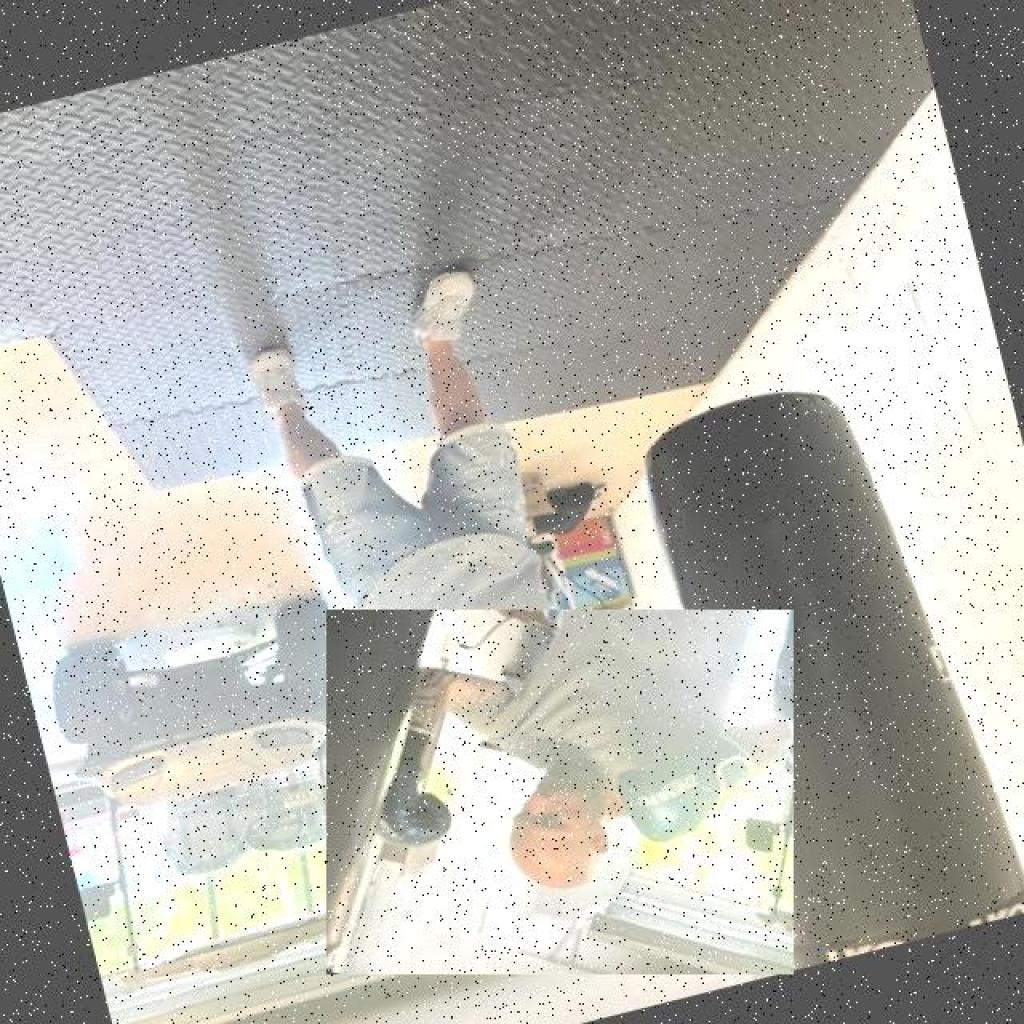uppercut: (326, 610, 793, 974)
